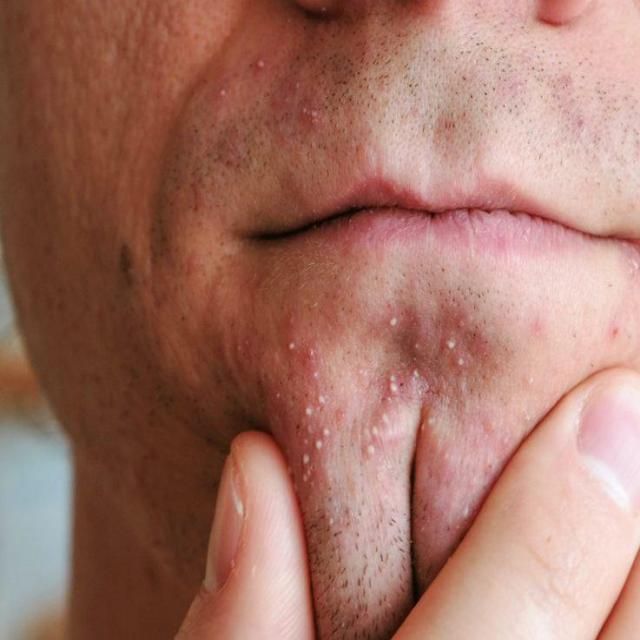blackheads: (117, 232, 134, 289), (288, 331, 317, 360), (297, 440, 321, 474), (360, 442, 378, 464), (301, 404, 318, 422), (386, 374, 398, 398), (523, 365, 535, 387), (384, 311, 397, 330), (254, 52, 266, 71), (446, 333, 454, 348)
